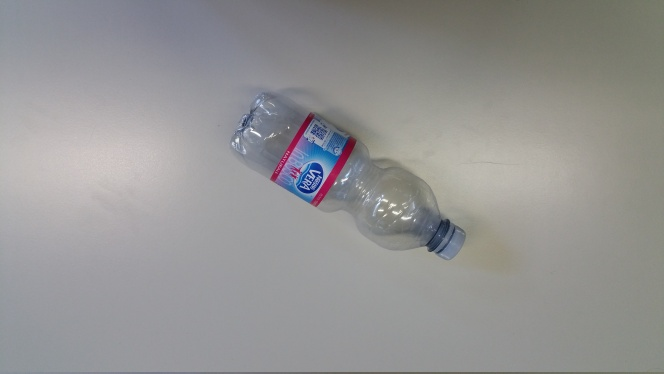bottle: (216, 95, 467, 262)
